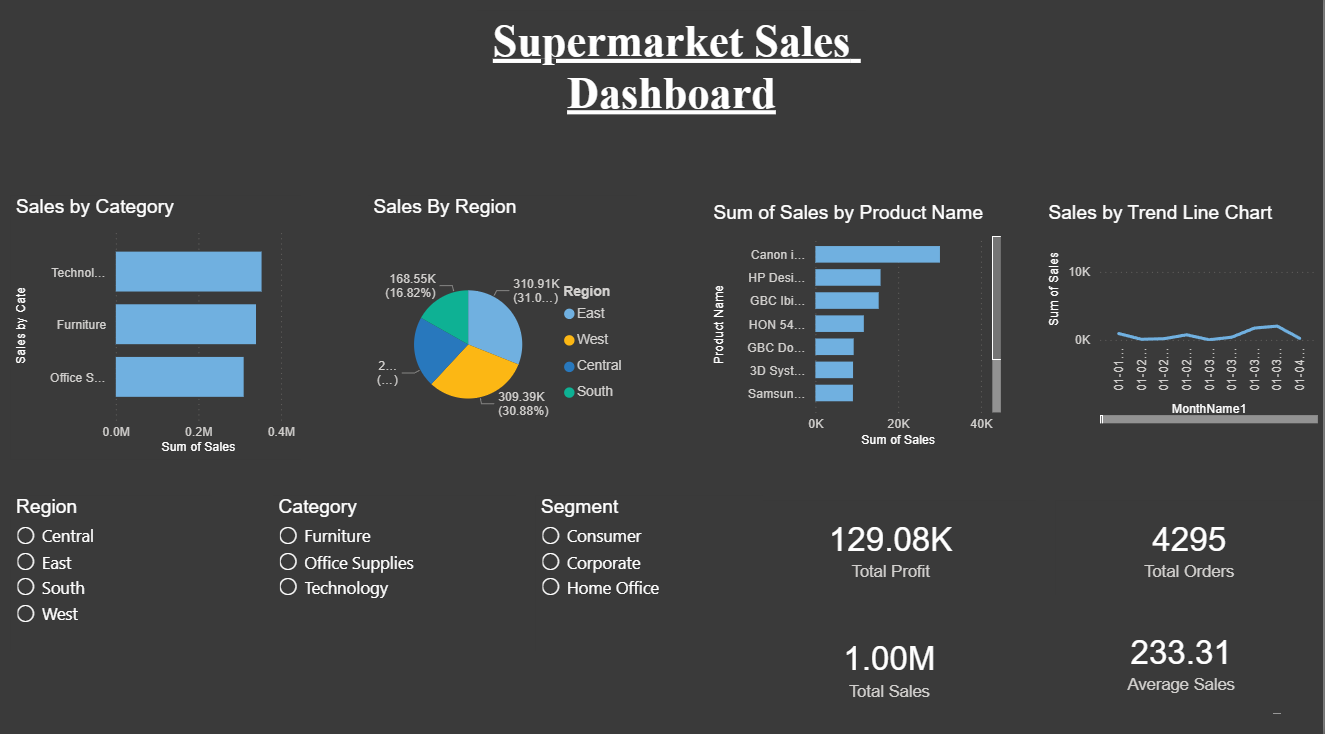

The dashboard page shown, as its layout file describes it:
{"tool":"powerbi","page":{"name":"Page 1","canvas":[1280,720],"ordinal":0},"visuals":[{"type":"card","fields":{"Values":["ss1.Total Sales"]},"box":[721.5,604.1,280,94.2],"z":0},{"type":"card","fields":{"Values":["ss1.Total Profit"]},"box":[722.7,491.6,280,90.5],"z":1000},{"type":"card","fields":{"Values":["ss1.Average Sales"]},"box":[1010.1,594.3,266.6,101.5],"z":2000},{"type":"lineChart","title":"Sales by Trend Line Chart","fields":{"Category":["ss1.MonthName"],"Y":["Sum(ss1.Sales)"]},"box":[1010.1,203,270.2,218.9],"z":3000},{"type":"clusteredBarChart","title":"Sales by Category","fields":{"Category":["ss1.Category"],"Y":["Sum(ss1.Sales)"]},"box":[13.5,196.9,280,254.3],"z":4000},{"type":"pieChart","title":"Sales By Region","fields":{"Category":["ss1.Region"],"Y":["Sum(ss1.Sales)"]},"box":[358.3,196.9,259.2,266.6],"z":5000},{"type":"card","fields":{"Values":["ss1.Total Orders"]},"box":[1022.3,491.6,258,90.5],"z":6000},{"type":"clusteredBarChart","fields":{"Category":["ss1.Product Name"],"Y":["Sum(ss1.Sales)"]},"box":[686,203,287.4,240.9],"z":7000},{"type":"listSlicer","fields":{"Values":["ss1.Region"]},"box":[13.5,486.7,193.2,233.6],"z":8000},{"type":"listSlicer","fields":{"Values":["ss1.Category"]},"box":[266.6,486.7,233.6,233.6],"z":9000},{"type":"listSlicer","fields":{"Values":["ss1.Segment"]},"box":[519.7,486.7,218.9,233.6],"z":10000},{"type":"textbox","box":[463.5,18.3,375.4,123.5],"z":11000}]}

Visuals, with their boxes in screenshot pixels (x1, y1, x2, y2), scaled from the page's 1280x720 canvas onto the 1325x734 screenshot:
card - ss1.Total Sales: 747/616/1037/712
card - ss1.Total Profit: 748/501/1038/593
card - ss1.Average Sales: 1046/606/1322/709
"Sales by Trend Line Chart" lineChart: 1046/207/1324/430
"Sales by Category" clusteredBarChart: 14/201/304/460
"Sales By Region" pieChart: 371/201/639/473
card - ss1.Total Orders: 1058/501/1324/593
clusteredBarChart - ss1.Product Name x Sum(ss1.Sales): 710/207/1008/453
listSlicer - ss1.Region: 14/496/214/733
listSlicer - ss1.Category: 276/496/518/733
listSlicer - ss1.Segment: 538/496/765/733
textbox: 480/19/868/145
